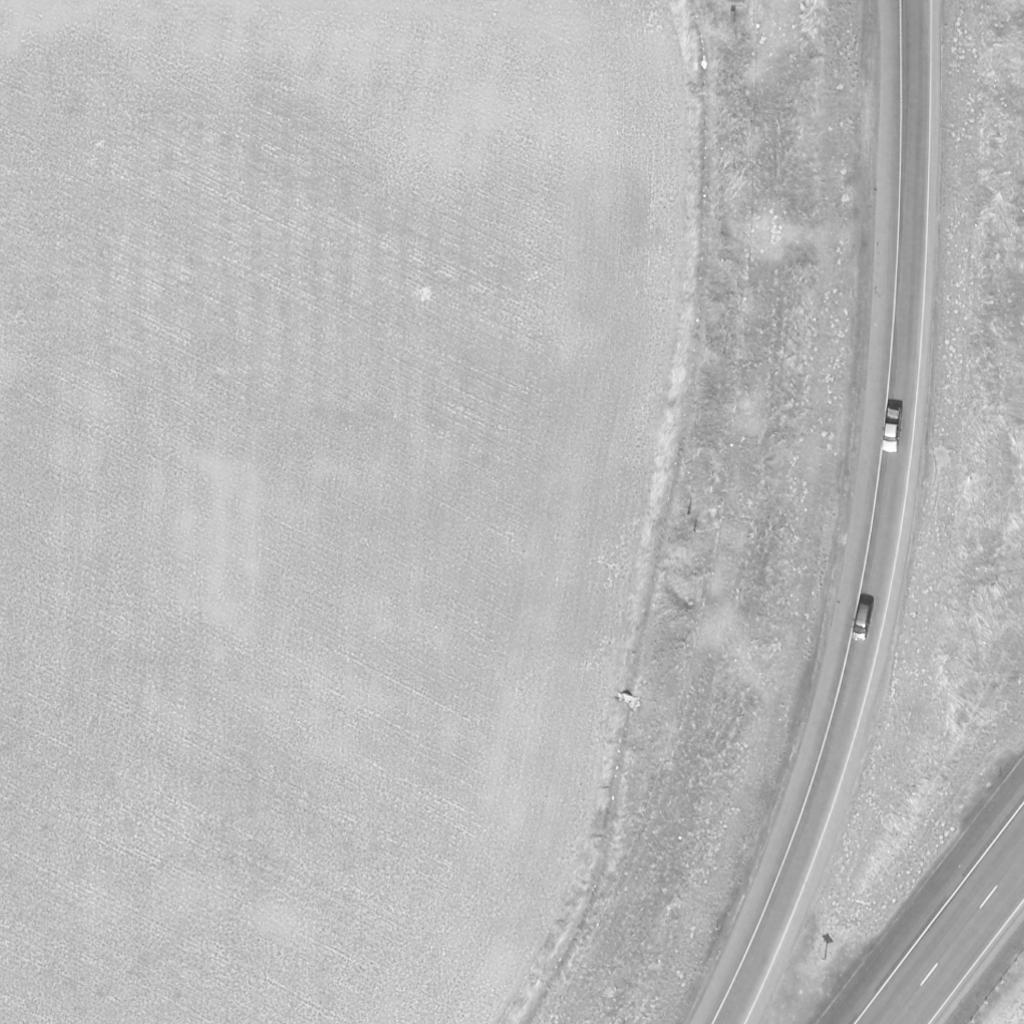vehicle: (881, 406, 903, 454), (853, 598, 873, 640)
